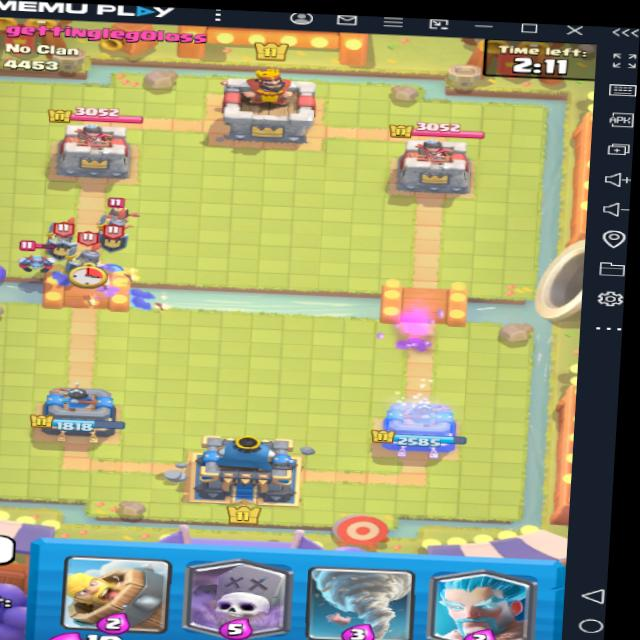guards: (69, 231, 108, 280), (45, 220, 78, 257), (97, 224, 133, 252)
minion: (10, 239, 59, 275)
princess: (101, 195, 138, 233)
